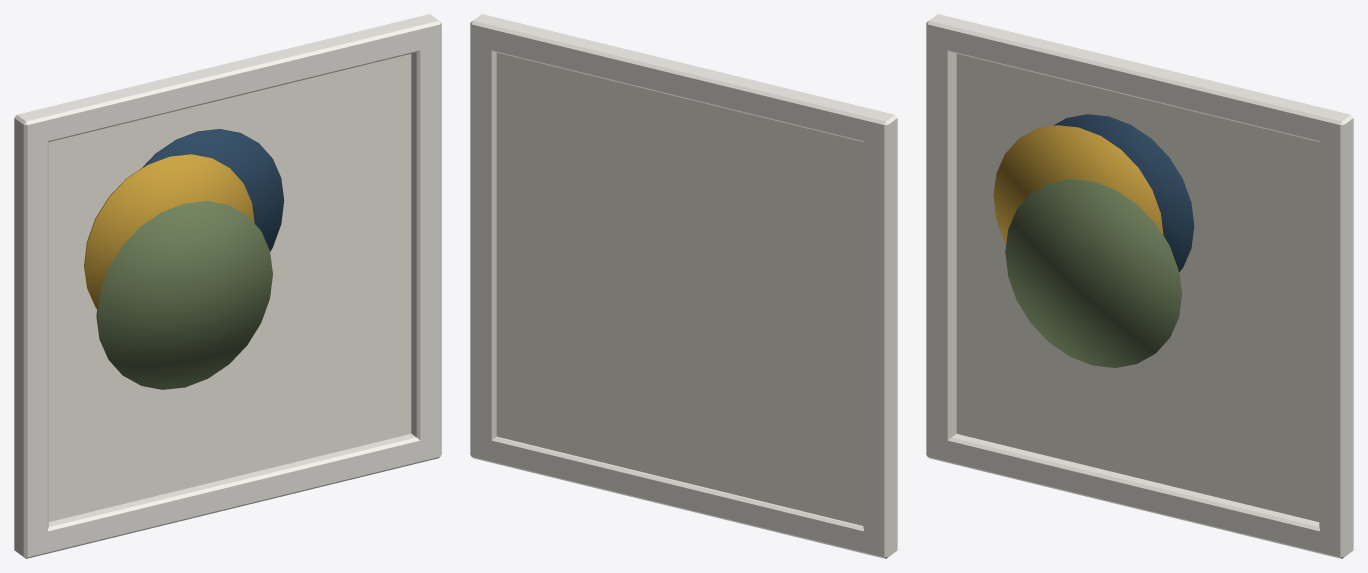
Rendered from i_pic_6.glb.
3 renders of one model, left to right at view 1: azimuth 30°, elevation 25°; view 2: azimuth 150°, elevation 25°; view 3: azimuth 330°, elevation 25°, orthographic.
Visible parts, largest first — view 1: o.004, o.007, o.001, o.002, o, o.003, o.006, o.005; view 2: o.004, o.001, o.002, o, o.003; view 3: o.004, o.007, o.001, o.003, o, o.002, o.006, o.005.
Part boxes in pixels (x1,y1,x2,y2): o.004: (48,54,411,521); o.007: (96,201,272,389); o.001: (14,14,441,145); o.002: (14,116,48,558); o: (14,434,441,558); o.003: (411,23,441,462); o.006: (84,154,254,309); o.005: (142,129,284,251); o.004: (496,53,863,525); o.001: (470,14,897,145); o.002: (863,117,897,558); o: (470,434,897,558); o.003: (470,23,496,462); o.004: (956,54,1319,521); o.007: (1005,179,1181,367); o.001: (926,14,1353,145); o.003: (1319,117,1353,558); o: (926,434,1353,558); o.002: (926,23,956,462); o.006: (993,125,1163,244); o.005: (1053,114,1194,271).
Size of the model in its own units: 0.5 by 0.5 by 0.025.
